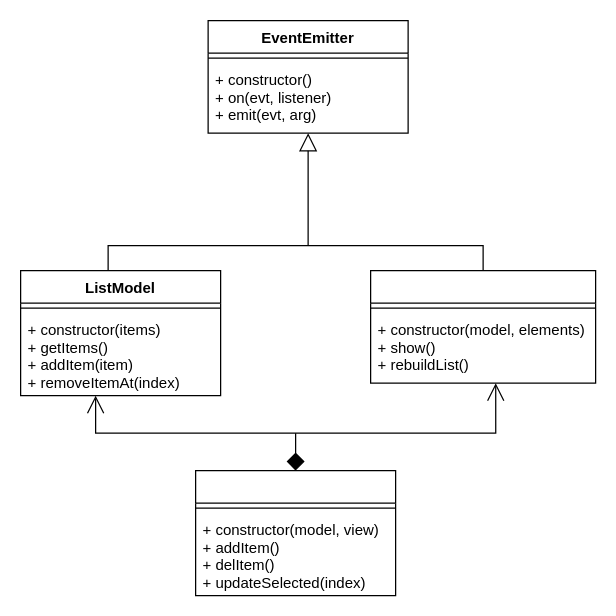
This 616x616 diagram has some shape labels left out. The shapes that lost their labels are listed below. From the top down, each one's box as (x1, y1, x2, y2) in pixels, then its label:
(369, 269, 596, 383): ListView
(194, 469, 396, 596): ListController
